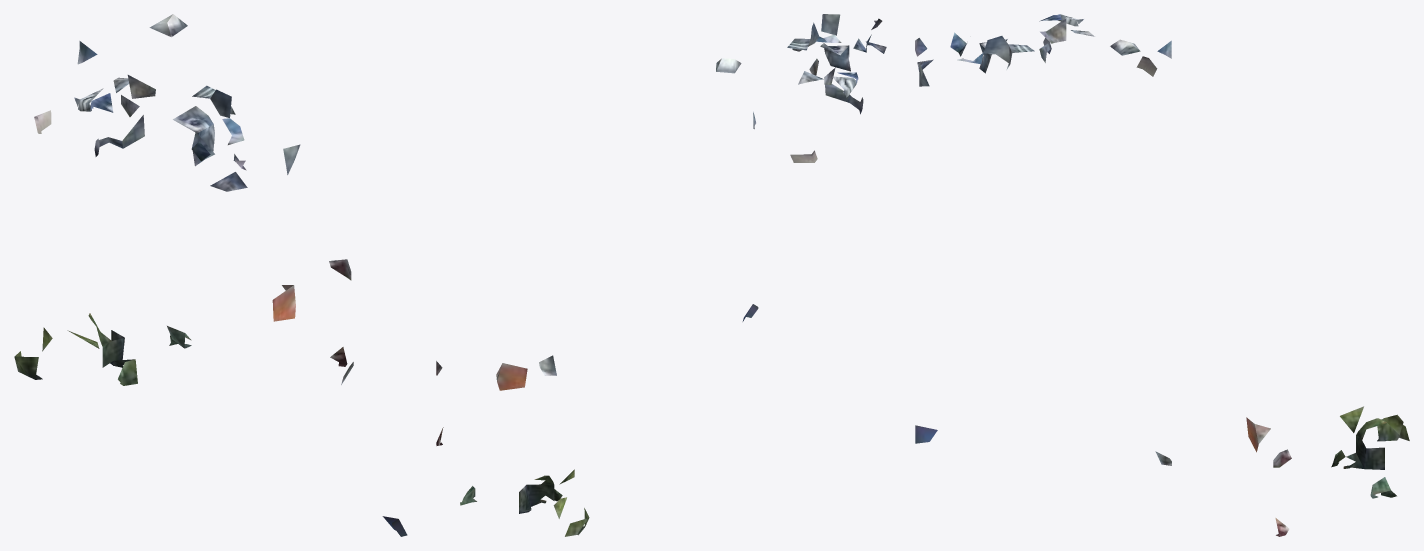
3 renders of one model, left to right at view 1: azimuth 30°, elevation 25°; view 2: azimuth 150°, elevation 25°; view 3: azimuth 270°, elevation 25°, orthographic. The views are drawn at different scales.
Parts seen in each view (by area): view 1: 30436272704370426617_1; view 2: 30436272704370426617_1; view 3: 30436272704370426617_1.
Part boxes in pixels (x1,y1,x2,y2): 30436272704370426617_1: (14, 14, 407, 536); 30436272704370426617_1: (436, 14, 886, 536); 30436272704370426617_1: (915, 14, 1409, 536).
Bounding box in the file's own units: 27.31 × 32.05 × 36.87.
1 material, 1 textured.
